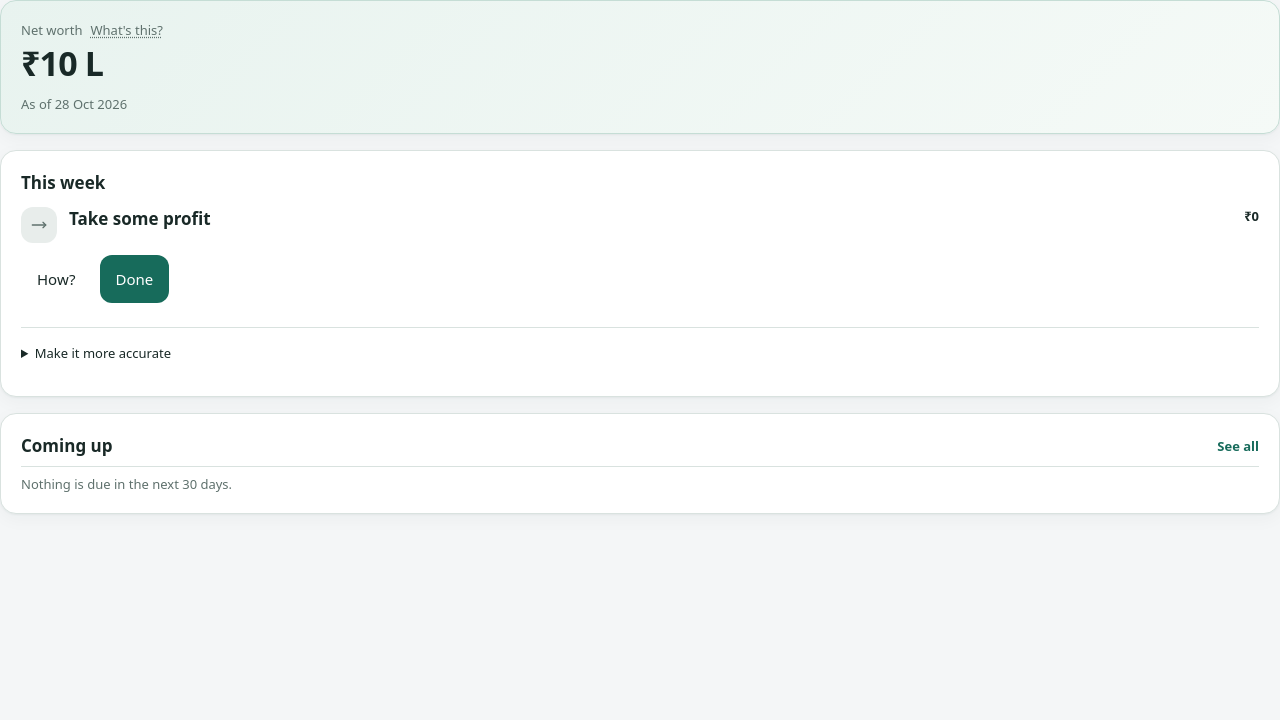
Test case: Home this week › shows the action details inside How and Why
Expected: the heading "Take some profit" is shown, [69,207,211,231]
Click the button with aria-label "How to" at x=56, y=279, box [21,255,92,303]
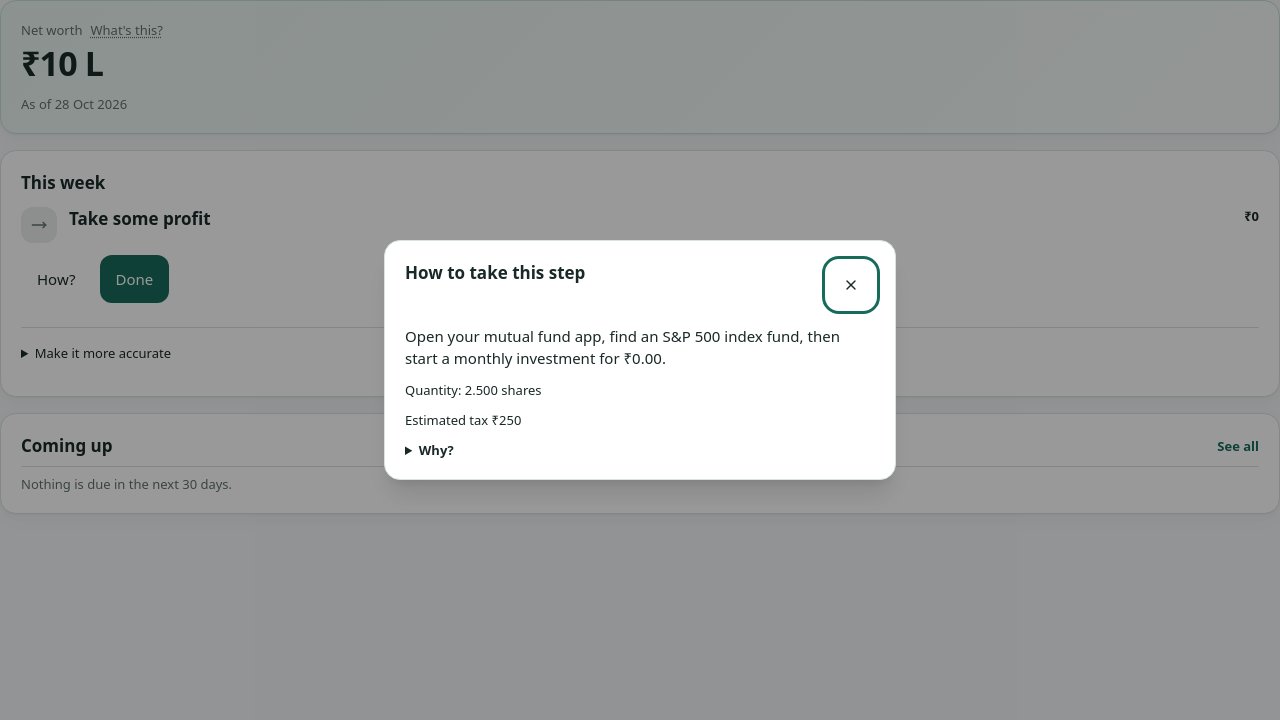
Now the text "₹250" is shown, box [492,411,521,429]
Click the heading "Why?" at x=436, y=450, box [419,441,454,459]
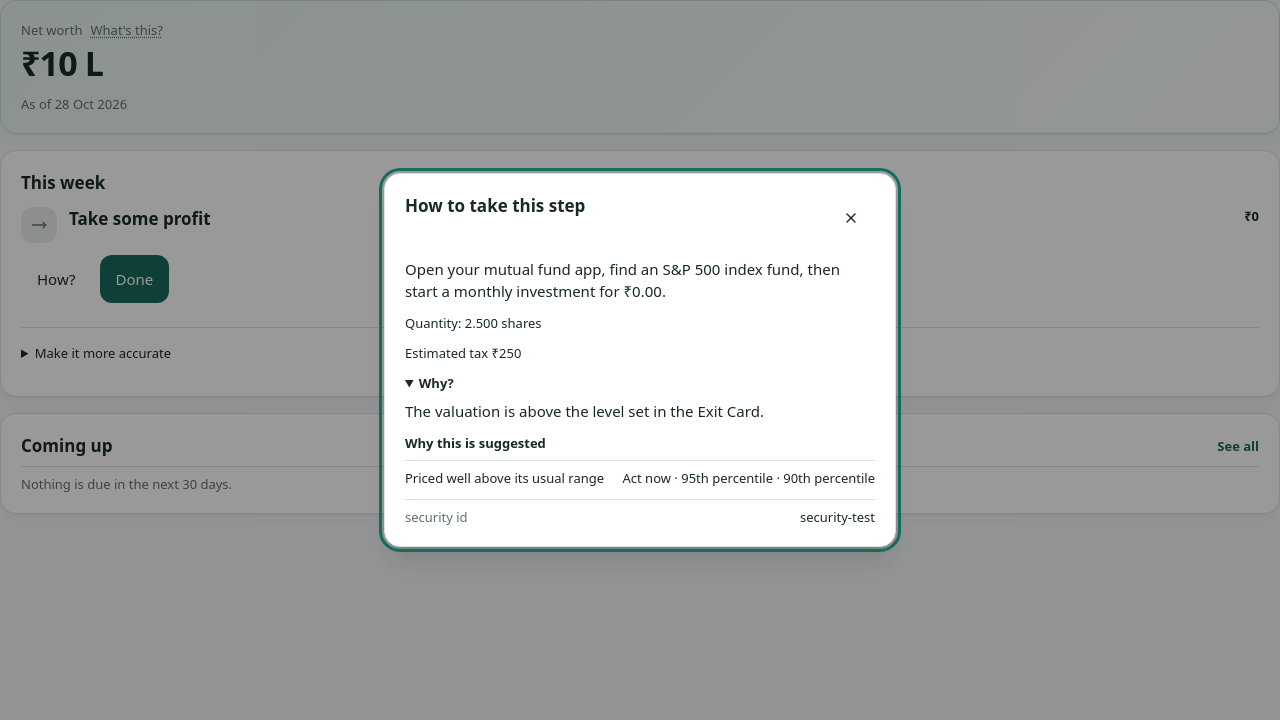
Now the heading "Why this is suggested" is shown, box [405,434,546,452]
Now the text "Priced well above its usual range" is shown, box [405,469,604,487]
